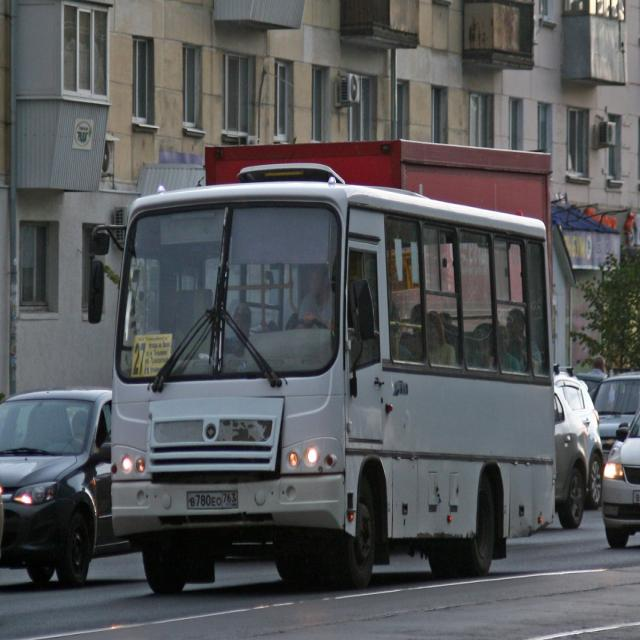number-of-bus: (133, 343, 147, 376)
